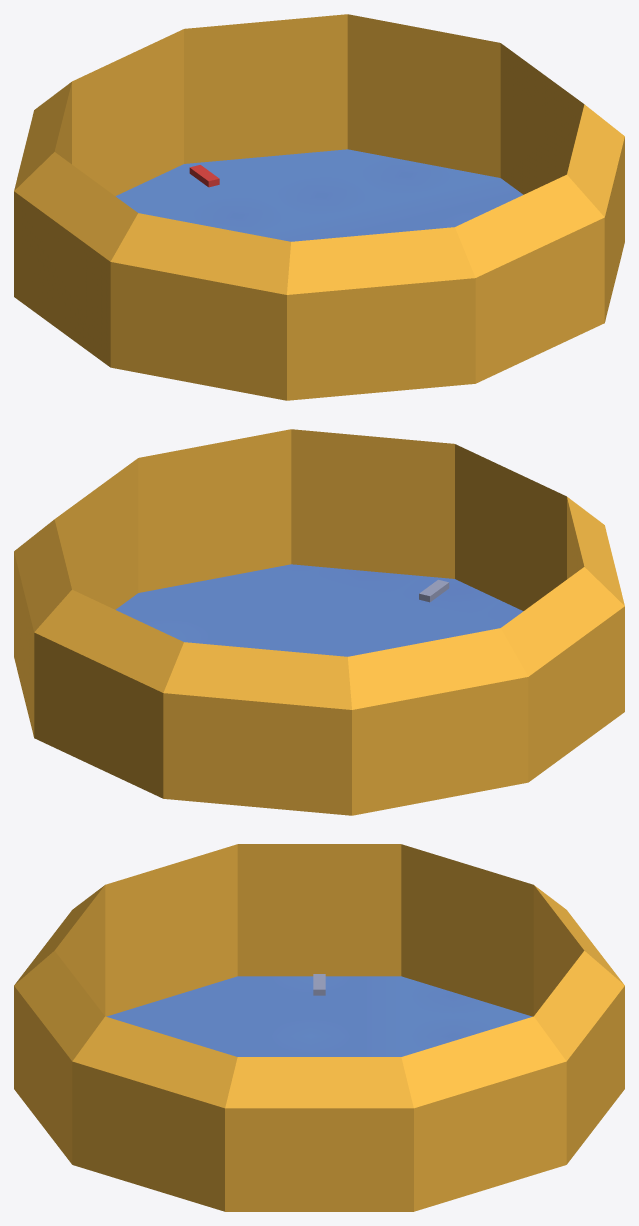
Rendered from compass.glb.
3 renders of one model, top to bottom at view 1: azimuth 30°, elevation 25°; view 2: azimuth 150°, elevation 25°; view 3: azimuth 270°, elevation 25°, orthographic. The views are drawn at different scales.
Parts seen in each view (by area): view 1: Cylinder; view 2: Cylinder; view 3: Cylinder.
Part boxes in pixels (x1,y1,x2,y2): Cylinder: (14, 14, 624, 400); Cylinder: (14, 429, 624, 815); Cylinder: (14, 844, 624, 1211).
Bounding box in the file's own units: 0.1902 × 0.05 × 0.2.
1 material, 1 textured.
